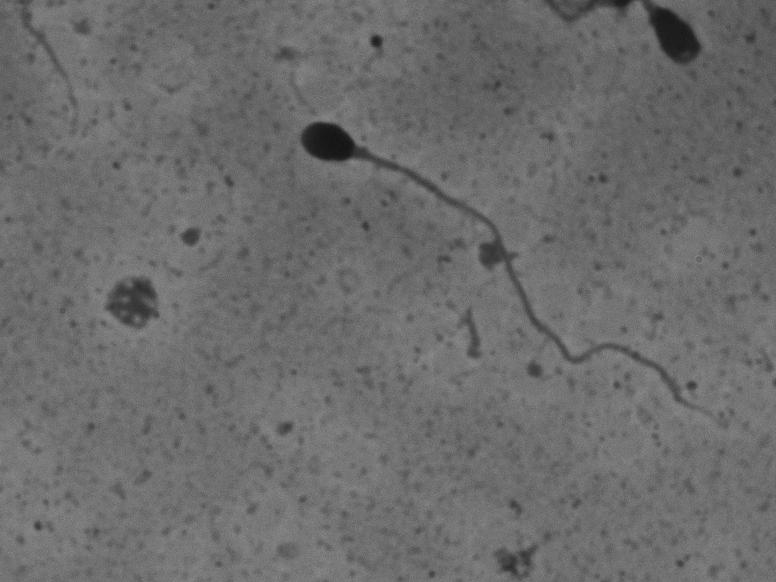Normal: (228, 95, 739, 427)
